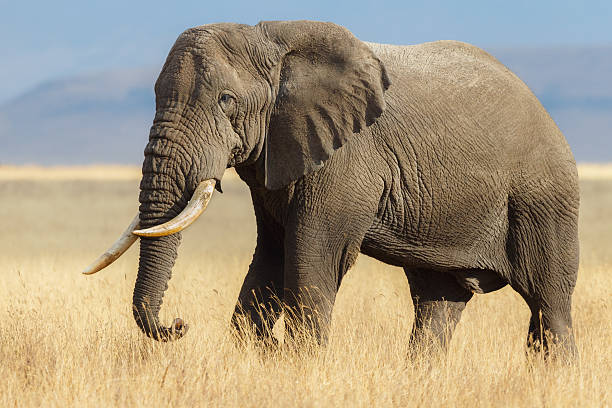africanelephant: (126, 19, 275, 245)
